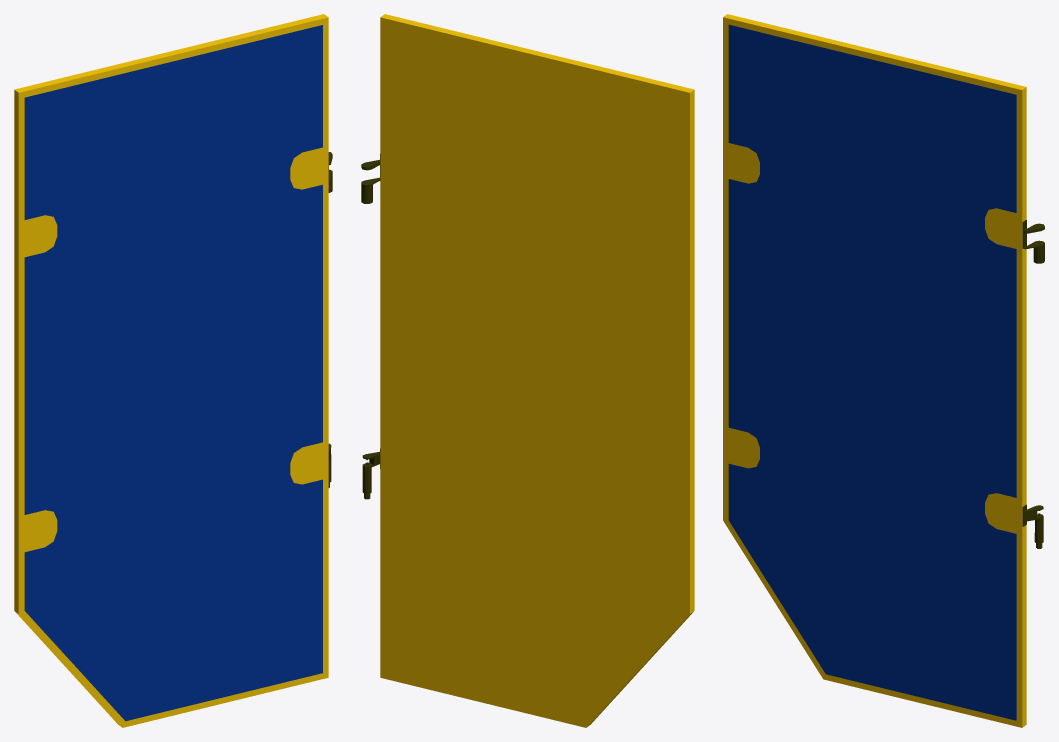
The model's file is LRO_SAS_Right_Panel.obj.
3 views of the same model, side by side, from view 1: azimuth 30°, elevation 25°; view 2: azimuth 150°, elevation 25°; view 3: azimuth 330°, elevation 25° (orthographic). The views are drawn at different scales.
Visible parts, largest first — view 1: SAS_Right_Panel_MTL15, SAS_Right_Panel_MTL14; view 2: SAS_Right_Panel_MTL14, SAS_Right_Panel_MTL1; view 3: SAS_Right_Panel_MTL15, SAS_Right_Panel_MTL14, SAS_Right_Panel_MTL1.
Boxes of the visible parts, x1,y1,x2,y2 form: SAS_Right_Panel_MTL15: (24, 25, 322, 721); SAS_Right_Panel_MTL14: (14, 14, 328, 727); SAS_Right_Panel_MTL14: (380, 14, 694, 727); SAS_Right_Panel_MTL1: (361, 154, 380, 499); SAS_Right_Panel_MTL15: (728, 24, 1016, 720); SAS_Right_Panel_MTL14: (723, 14, 1026, 727); SAS_Right_Panel_MTL1: (1022, 220, 1044, 548).
Size of the model in its own units: 1.49 by 2.91 by 0.1031.
